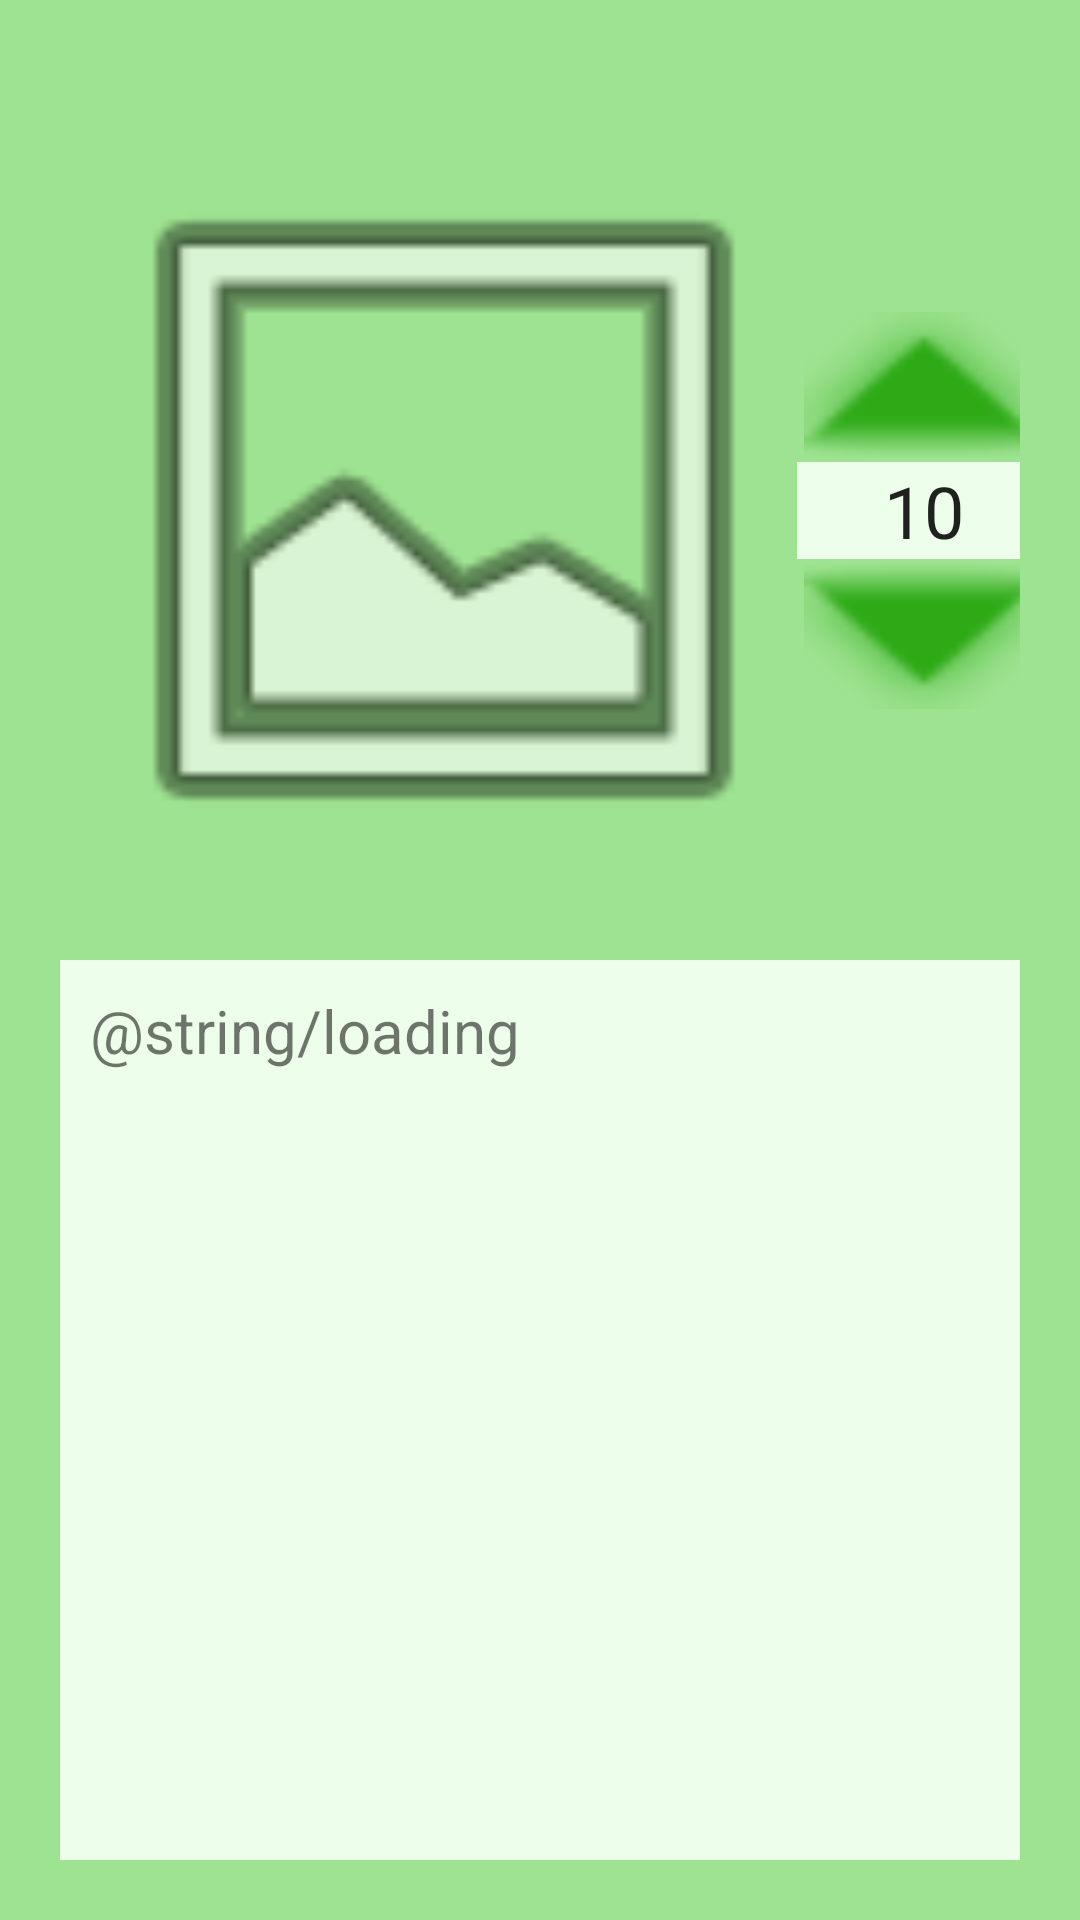

Screen size 1080 × 1920. Icon name, then its center in pixels as (x=x, y=y):
arrow down float: (x=912, y=631)
arrow up float: (x=912, y=389)
